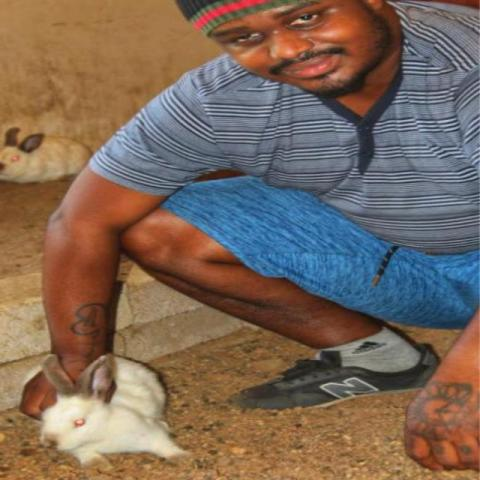small_animal: (34, 351, 192, 473), (0, 124, 100, 186)
